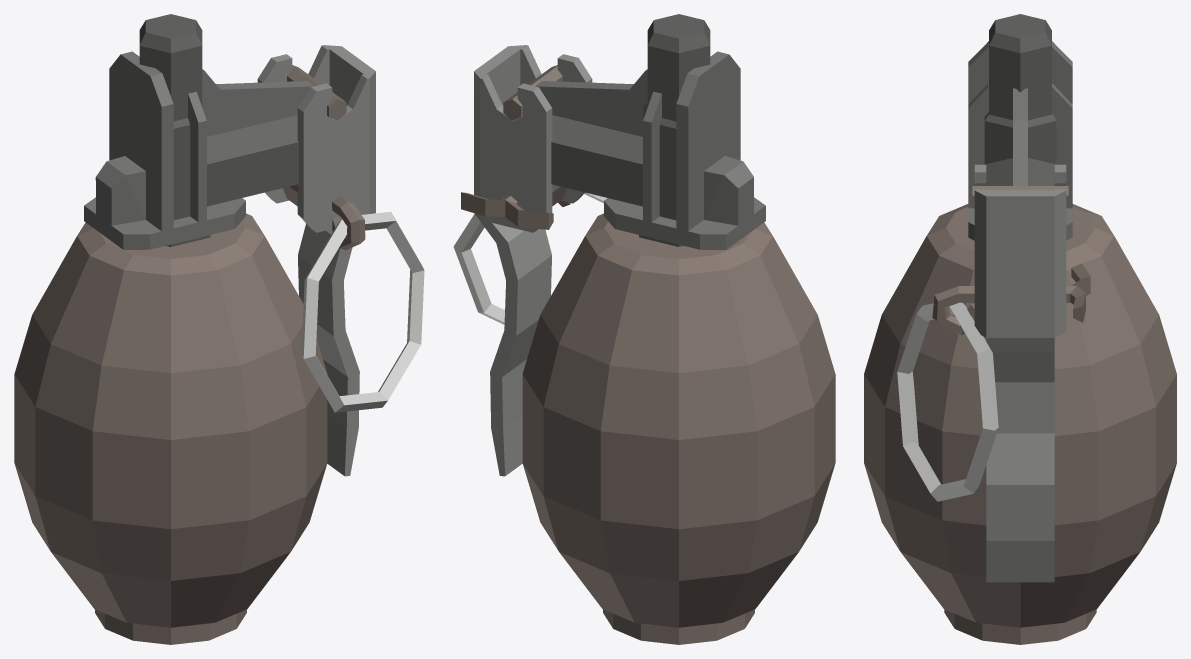
Rendered from SM_Bomb_06.fbx.
3 renders of one model, left to right at view 1: azimuth 30°, elevation 25°; view 2: azimuth 150°, elevation 25°; view 3: azimuth 270°, elevation 25°, orthographic.
Visible parts, largest first — view 1: SM_Bomb_06; view 2: SM_Bomb_06; view 3: SM_Bomb_06.
Part boxes in pixels (x1=…): SM_Bomb_06: x1=14, y1=14, x2=424, y2=644; SM_Bomb_06: x1=453, y1=14, x2=835, y2=644; SM_Bomb_06: x1=864, y1=14, x2=1176, y2=644.
Size of the model in its own units: 3.44 by 5.16 by 2.49.
Materials: 1 (1 with a texture image).
